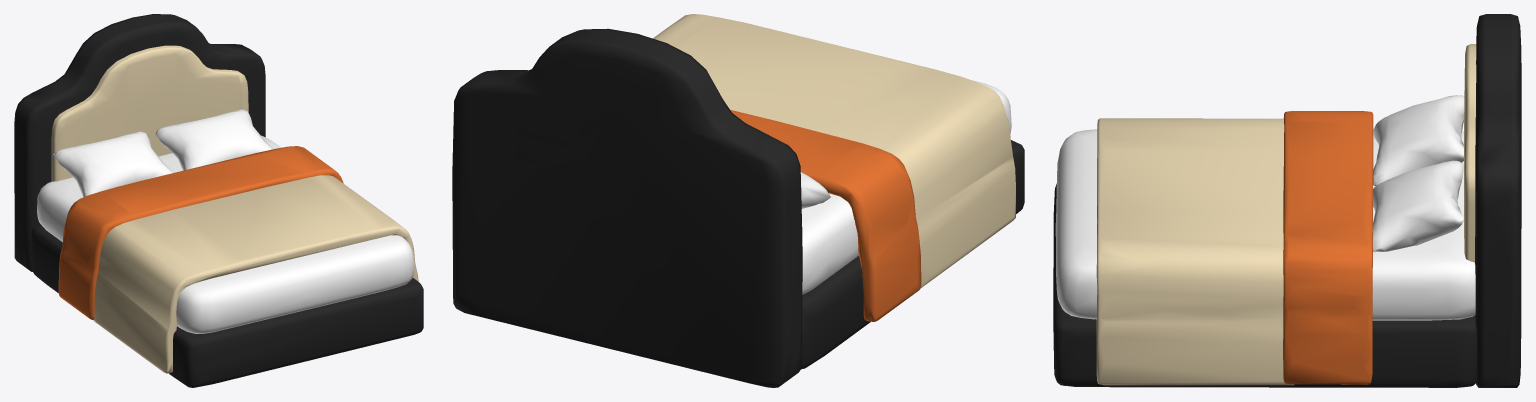
Rendered from Bed.glb.
3 renders of one model, left to right at view 1: azimuth 30°, elevation 25°; view 2: azimuth 150°, elevation 25°; view 3: azimuth 270°, elevation 25°, orthographic. The views are drawn at different scales.
Parts seen in each view (by area): view 1: 3d66-Editable_mesh-23123286-037, 3d66-Editable_mesh-23123286-041, 3d66-Editable_mesh-23123286-039, 3d66-Editable_mesh-23123286-036; view 2: 3d66-Editable_mesh-23123286-041, 3d66-Editable_mesh-23123286-037, 3d66-Editable_mesh-23123286-036, 3d66-Editable_mesh-23123286-039; view 3: 3d66-Editable_mesh-23123286-037, 3d66-Editable_mesh-23123286-041, 3d66-Editable_mesh-23123286-039, 3d66-Editable_mesh-23123286-036.
Boxes of the visible parts, box(x1,y1,x2,y2) form: 3d66-Editable_mesh-23123286-037: box(51, 45, 418, 373); 3d66-Editable_mesh-23123286-041: box(14, 14, 423, 387); 3d66-Editable_mesh-23123286-039: box(37, 109, 414, 333); 3d66-Editable_mesh-23123286-036: box(58, 146, 343, 319); 3d66-Editable_mesh-23123286-041: box(452, 28, 1024, 387); 3d66-Editable_mesh-23123286-037: box(653, 14, 1015, 288); 3d66-Editable_mesh-23123286-036: box(730, 110, 921, 321); 3d66-Editable_mesh-23123286-039: box(800, 80, 1011, 294); 3d66-Editable_mesh-23123286-037: box(1096, 44, 1476, 385); 3d66-Editable_mesh-23123286-041: box(1053, 14, 1521, 387); 3d66-Editable_mesh-23123286-039: box(1055, 95, 1475, 320); 3d66-Editable_mesh-23123286-036: box(1283, 111, 1373, 384).
Size of the model in its own units: 1.14 by 0.9089 by 1.35.
